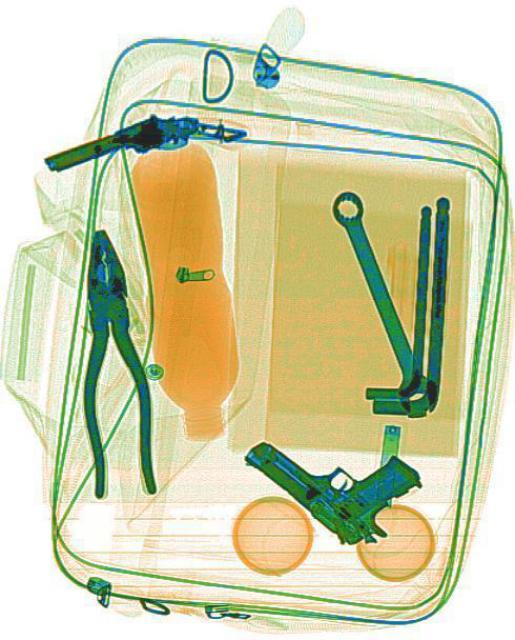Gun: (241, 368, 426, 566), (40, 100, 247, 172)
Pliers: (64, 225, 157, 501)
Wrench: (324, 182, 443, 420)
